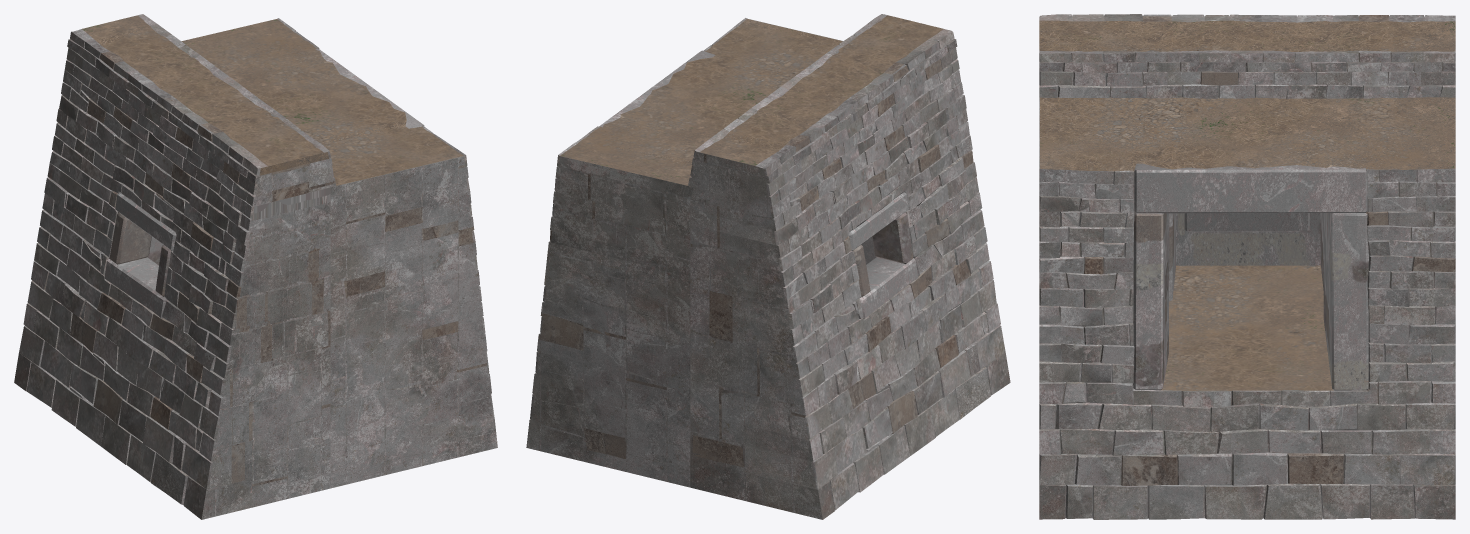
Rendered from SM_Outer_Castle03a.fbx.
3 renders of one model, left to right at view 1: azimuth 30°, elevation 25°; view 2: azimuth 150°, elevation 25°; view 3: azimuth 270°, elevation 25°, orthographic. The views are drawn at different scales.
Visible parts, largest first — view 1: SM_Outer_Castle03a; view 2: SM_Outer_Castle03a; view 3: SM_Outer_Castle03a.
Boxes of the visible parts, x1,y1,x2,y2 form: SM_Outer_Castle03a: [14, 14, 497, 519]; SM_Outer_Castle03a: [526, 14, 1010, 519]; SM_Outer_Castle03a: [1039, 14, 1455, 519].
Size of the model in its own units: 367 by 400 by 399.
Materials: 3 (3 with a texture image).
